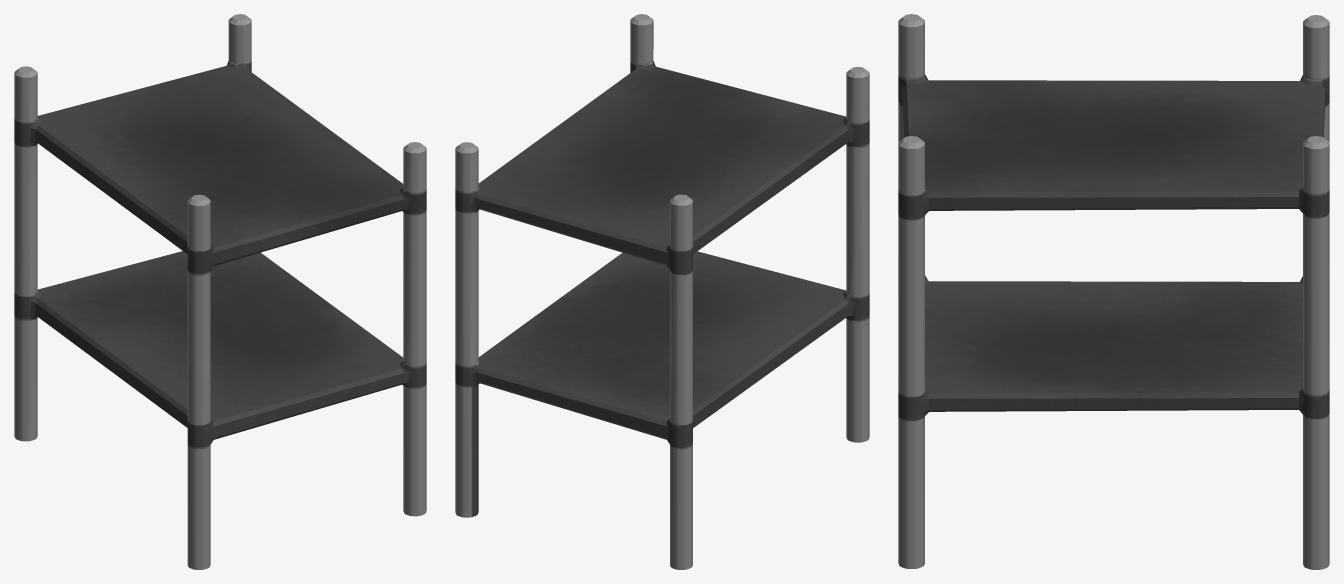
File: storage rack.fbx
The picture shows the model from 3 angles, left to right: view 1: azimuth 30°, elevation 25°; view 2: azimuth 150°, elevation 25°; view 3: azimuth 270°, elevation 25°; orthographic projection. The views are drawn at different scales.
Visible parts, largest first — view 1: polySurface401; view 2: polySurface401; view 3: polySurface401.
Boxes of the visible parts, <box> form: polySurface401: <box>14,14,426,569</box>; polySurface401: <box>455,14,869,569</box>; polySurface401: <box>898,14,1329,569</box>.
Bounding box in the file's own units: 1.42 × 2.11 × 1.94.
Materials: 1 (1 with a texture image).
